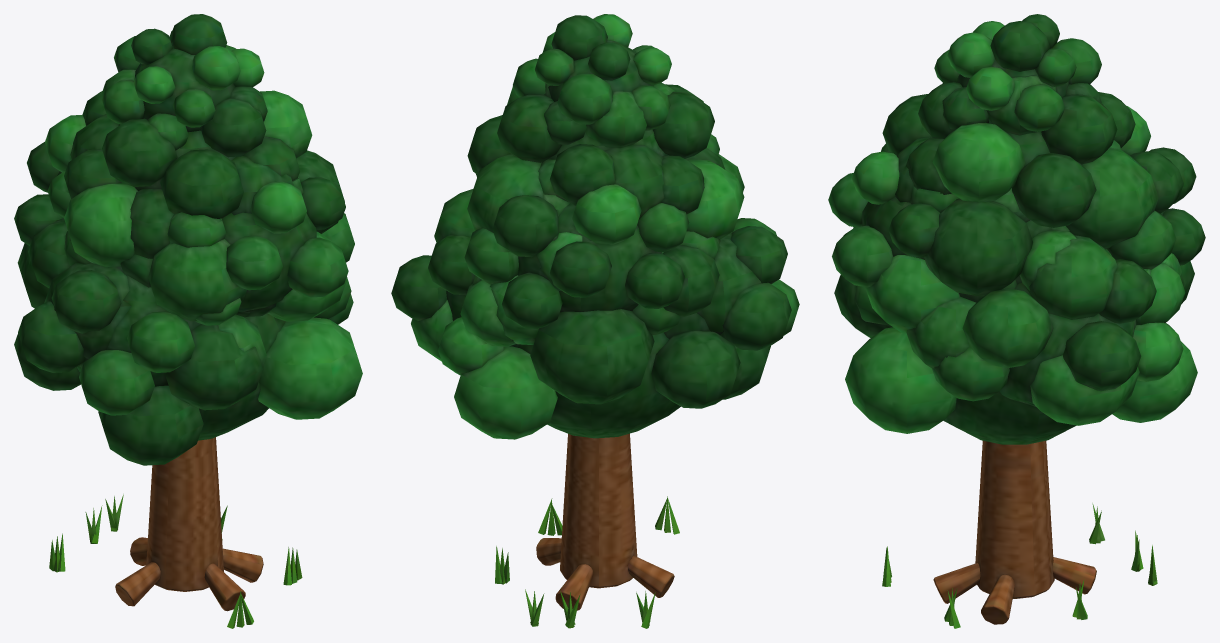
Rendered from sapodilla_tree.glb.
3 views of the same model, side by side, from view 1: azimuth 30°, elevation 25°; view 2: azimuth 150°, elevation 25°; view 3: azimuth 270°, elevation 25° (orthographic). The views are drawn at different scales.
Parts seen in each view (by area): view 1: crown, sapodilla_tree; view 2: crown, sapodilla_tree; view 3: crown, sapodilla_tree.
Boxes of the visible parts, box(x1,y1,x2,y2) form: crown: box(14, 14, 362, 465); sapodilla_tree: box(49, 437, 302, 628); crown: box(391, 14, 799, 439); sapodilla_tree: box(495, 433, 679, 628); crown: box(828, 14, 1205, 444); sapodilla_tree: box(882, 440, 1157, 628).
Size of the model in its own units: 0.8927 by 1.43 by 0.8414.
1 material, 1 textured.
